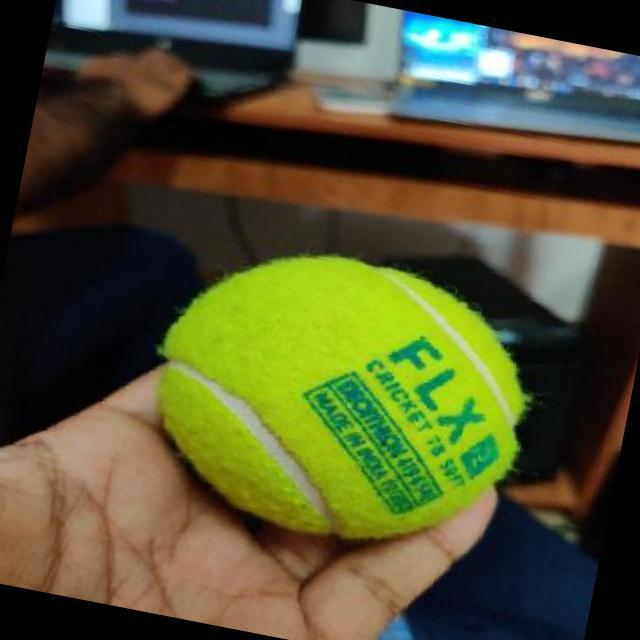-: (122, 216, 553, 579)
